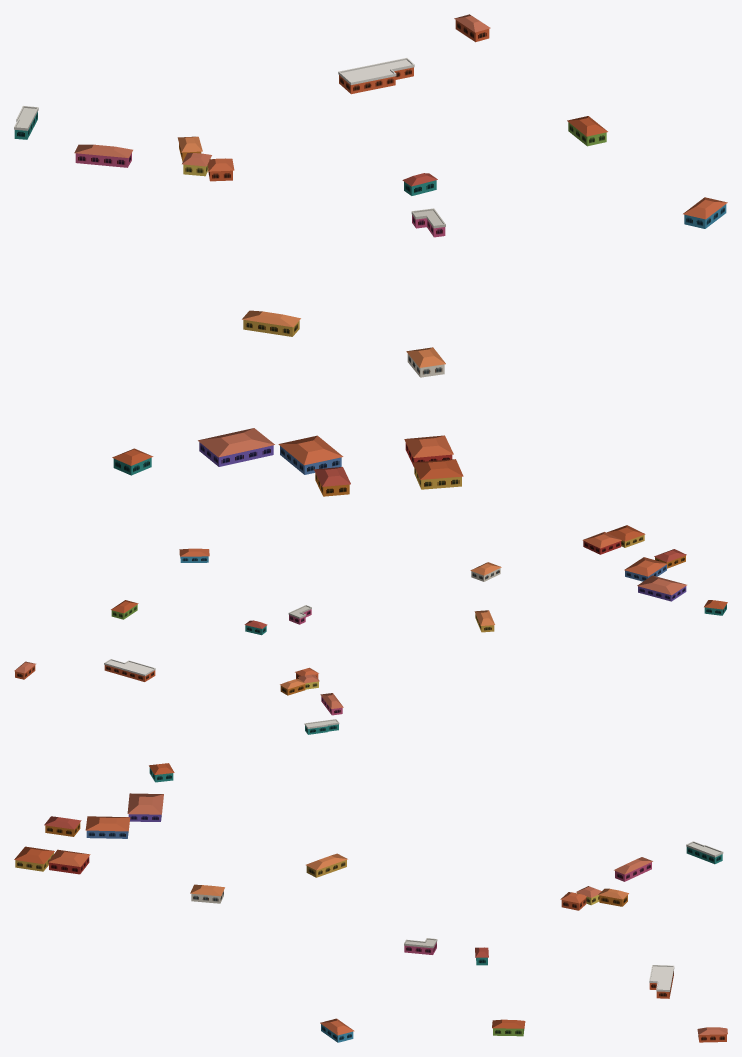
Rendered from msb_oranjestad_m10_4.glb.
The picture shows the model from 3 angles, top to bottom: view 1: azimuth 30°, elevation 25°; view 2: azimuth 150°, elevation 25°; view 3: azimuth 270°, elevation 25°; orthographic projection. The views are drawn at different scales.
Parts seen in each view (by area): view 1: msb_oranjestad_m10_4_lod0; view 2: msb_oranjestad_m10_4_lod0; view 3: msb_oranjestad_m10_4_lod0.
Boxes of the visible parts, left/top/right/bottom form: msb_oranjestad_m10_4_lod0: left=14, top=14, right=727, bottom=496; msb_oranjestad_m10_4_lod0: left=14, top=525, right=727, bottom=734; msb_oranjestad_m10_4_lod0: left=14, top=763, right=727, bottom=1042.
Size of what is drawn, in the model's own units: 256 by 11.28 by 286.
3 materials, 1 textured.
